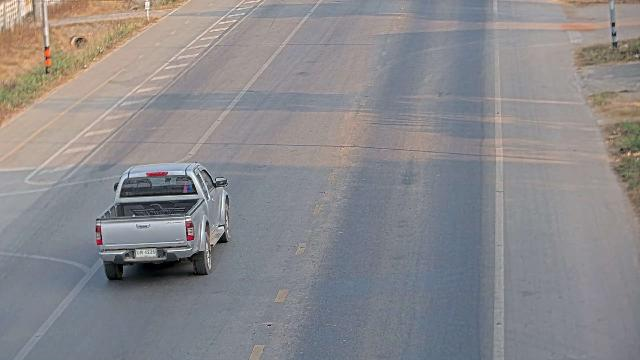pickup-truck: (94, 161, 231, 280)
